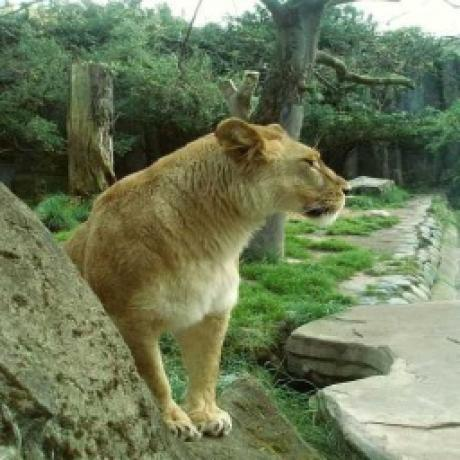Lion: (64, 115, 356, 444)
